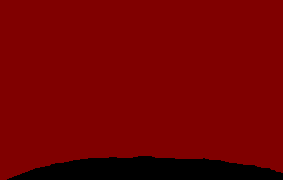Sky: (1, 1, 282, 179)
